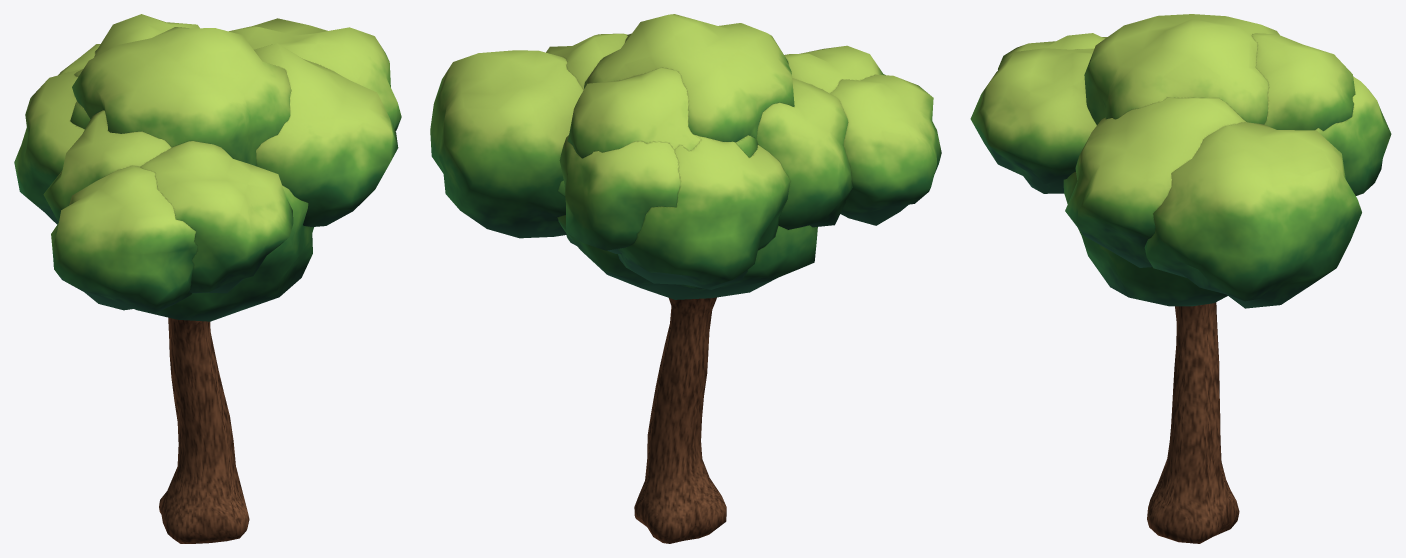
The model's file is Env_BroadTree_3.glb.
The picture shows the model from 3 angles, left to right: view 1: azimuth 30°, elevation 25°; view 2: azimuth 150°, elevation 25°; view 3: azimuth 270°, elevation 25°; orthographic projection.
Parts seen in each view (by area): view 1: Env_BroadTree_3.001; view 2: Env_BroadTree_3.001; view 3: Env_BroadTree_3.001.
Boxes of the visible parts, bbox=[...] form: Env_BroadTree_3.001: bbox=[14, 14, 401, 543]; Env_BroadTree_3.001: bbox=[430, 14, 941, 543]; Env_BroadTree_3.001: bbox=[970, 14, 1391, 543].
Size of the model in its own units: 11.95 by 14 by 10.52.
1 material, 1 textured.
